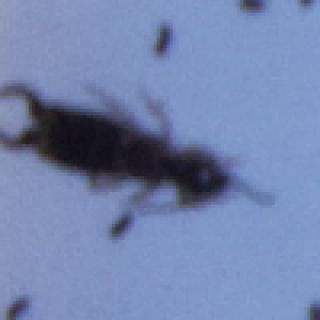earwig: (0, 73, 278, 220)
